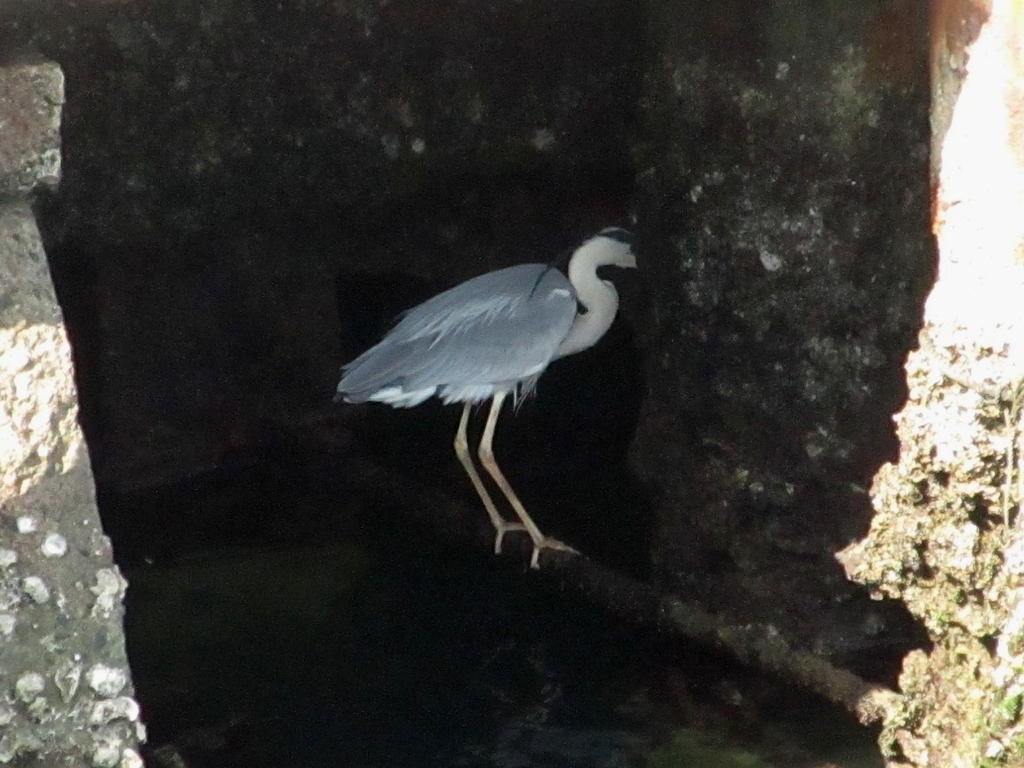heron: (337, 225, 647, 583)
